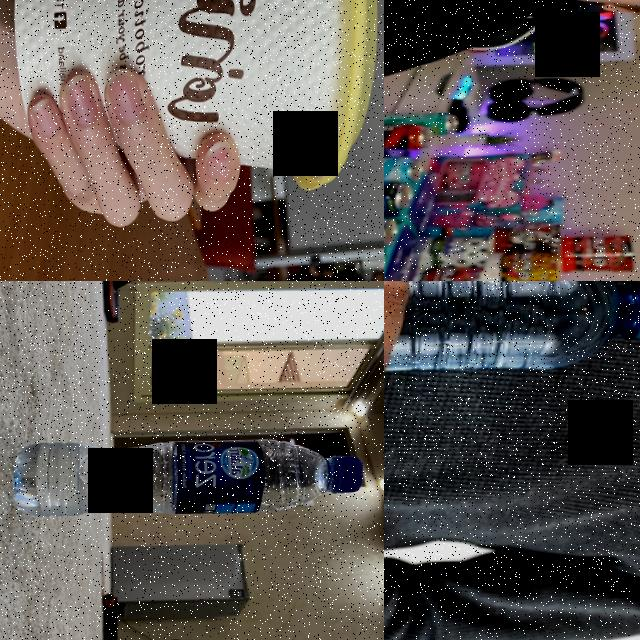bottle: (4, 428, 370, 525), (384, 281, 640, 389)
can: (384, 111, 464, 139), (384, 119, 438, 153), (384, 152, 423, 186), (384, 178, 418, 213)
cup: (6, 0, 383, 204)
